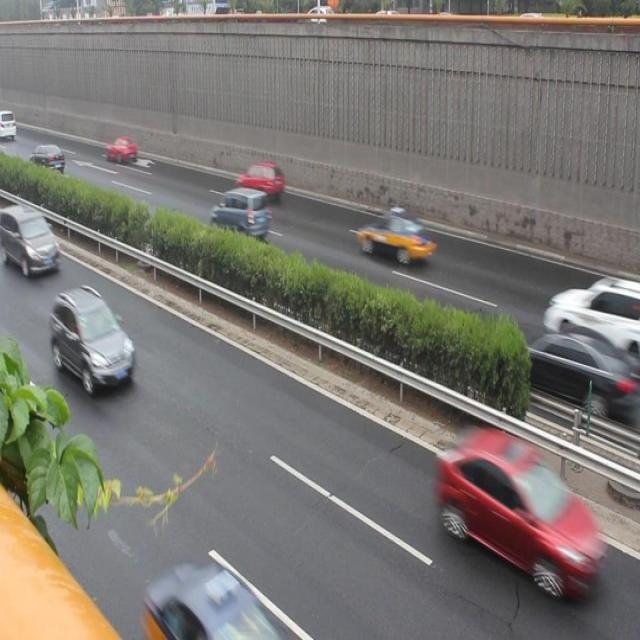car: (431, 421, 616, 604), (137, 550, 290, 640), (512, 311, 640, 407), (50, 281, 134, 395), (542, 263, 640, 360), (357, 202, 437, 276), (207, 188, 270, 246), (230, 153, 284, 201)
truck: (0, 197, 60, 272)
